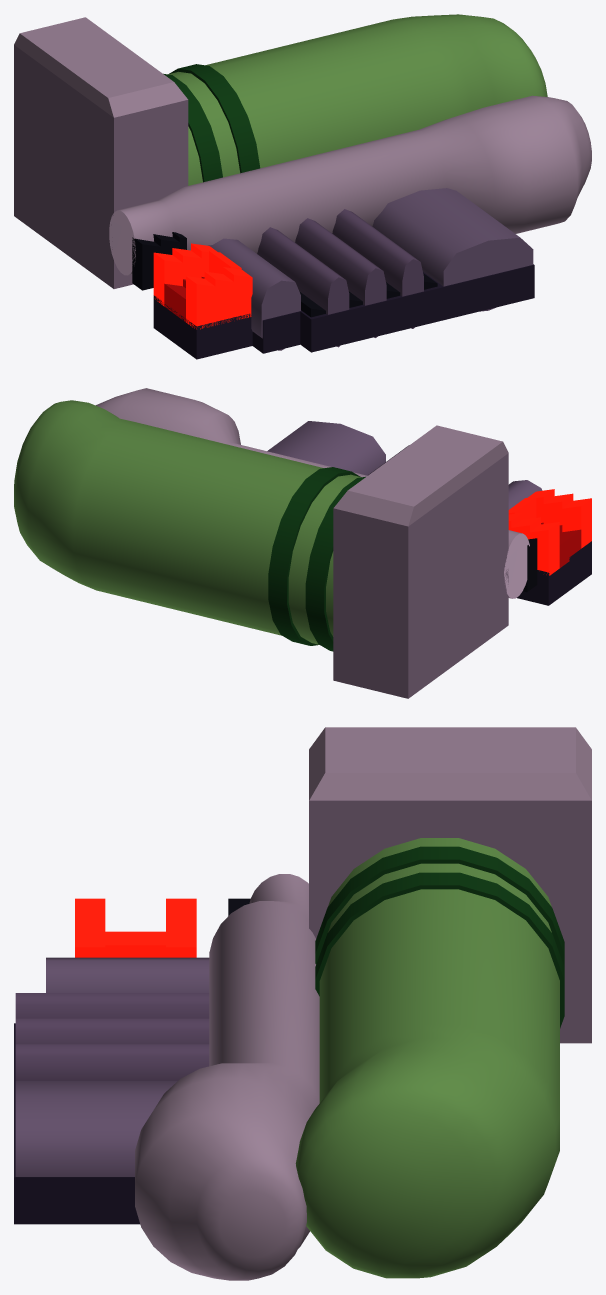
The model's file is newshc-199.glb.
3 views of the same model, one above another, from view 1: azimuth 30°, elevation 25°; view 2: azimuth 150°, elevation 25°; view 3: azimuth 270°, elevation 25° (orthographic). The views are drawn at different scales.
Visible parts, largest first — view 1: newshc-199; view 2: newshc-199; view 3: newshc-199.
Boxes of the visible parts, box(x1,y1,x2,y2) form: newshc-199: box(14, 14, 591, 359); newshc-199: box(14, 388, 591, 698); newshc-199: box(14, 727, 591, 1280).
Bounding box in the file's own units: 2 × 0.85 × 1.58.
